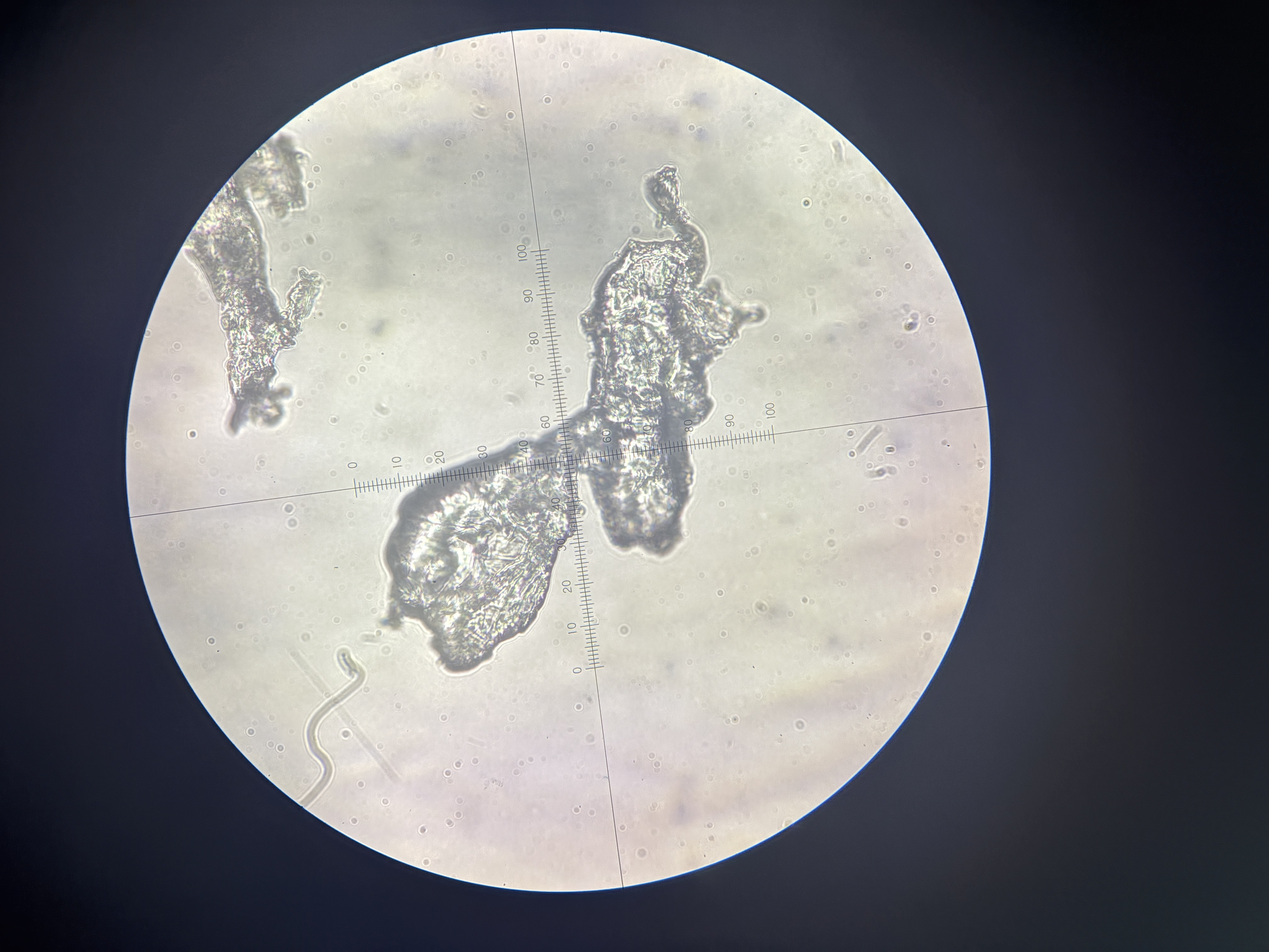microplastic: (572, 161, 771, 567), (376, 404, 608, 677), (180, 165, 286, 432), (238, 131, 314, 224), (282, 265, 324, 351)
